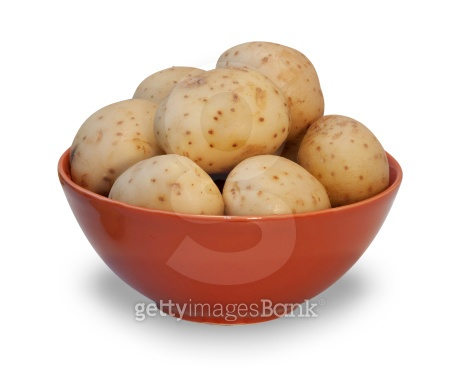boiled potatoes: (156, 74, 297, 170), (224, 42, 336, 140), (296, 107, 397, 204), (108, 154, 231, 221), (227, 150, 342, 220), (71, 99, 160, 188)
